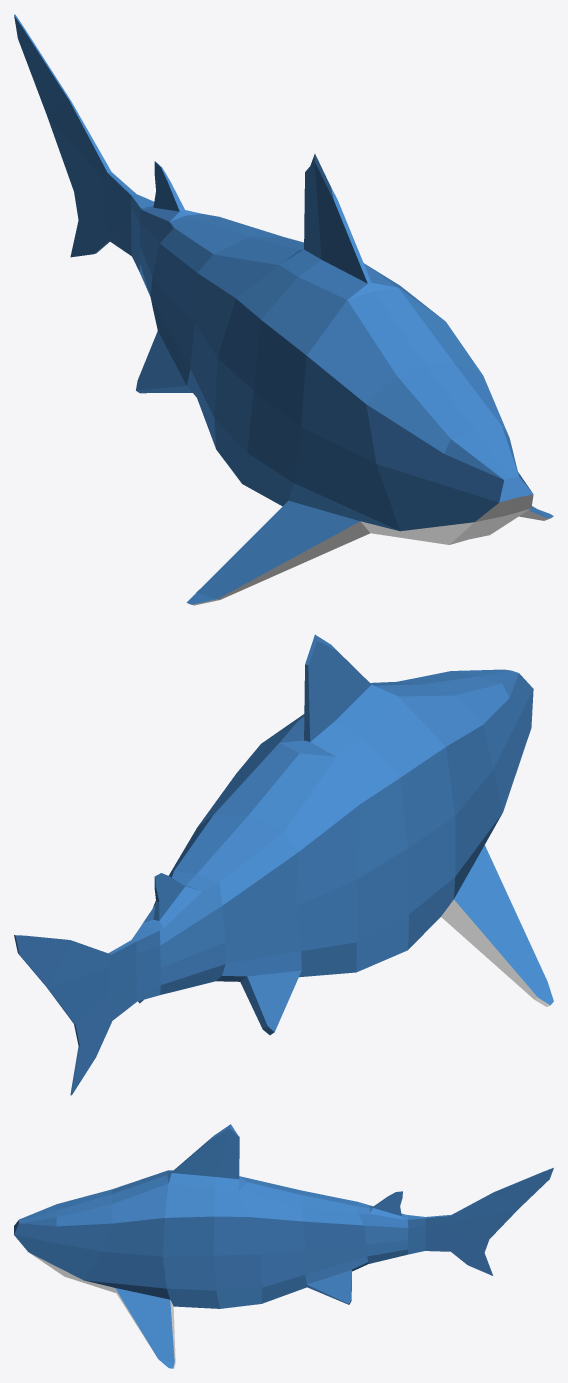
Rendered from shark_lp_1.fbx.
The picture shows the model from 3 angles, top to bottom: view 1: azimuth 30°, elevation 25°; view 2: azimuth 150°, elevation 25°; view 3: azimuth 270°, elevation 25°; orthographic projection. The views are drawn at different scales.
Visible parts, largest first — view 1: Shark; view 2: Shark; view 3: Shark.
Boxes of the visible parts, left/top/right/bottom form: Shark: left=14, top=14, right=553, bottom=605; Shark: left=14, top=634, right=553, bottom=1095; Shark: left=14, top=1124, right=553, bottom=1368.
Size of the model in its own units: 454 by 438 by 1083.
